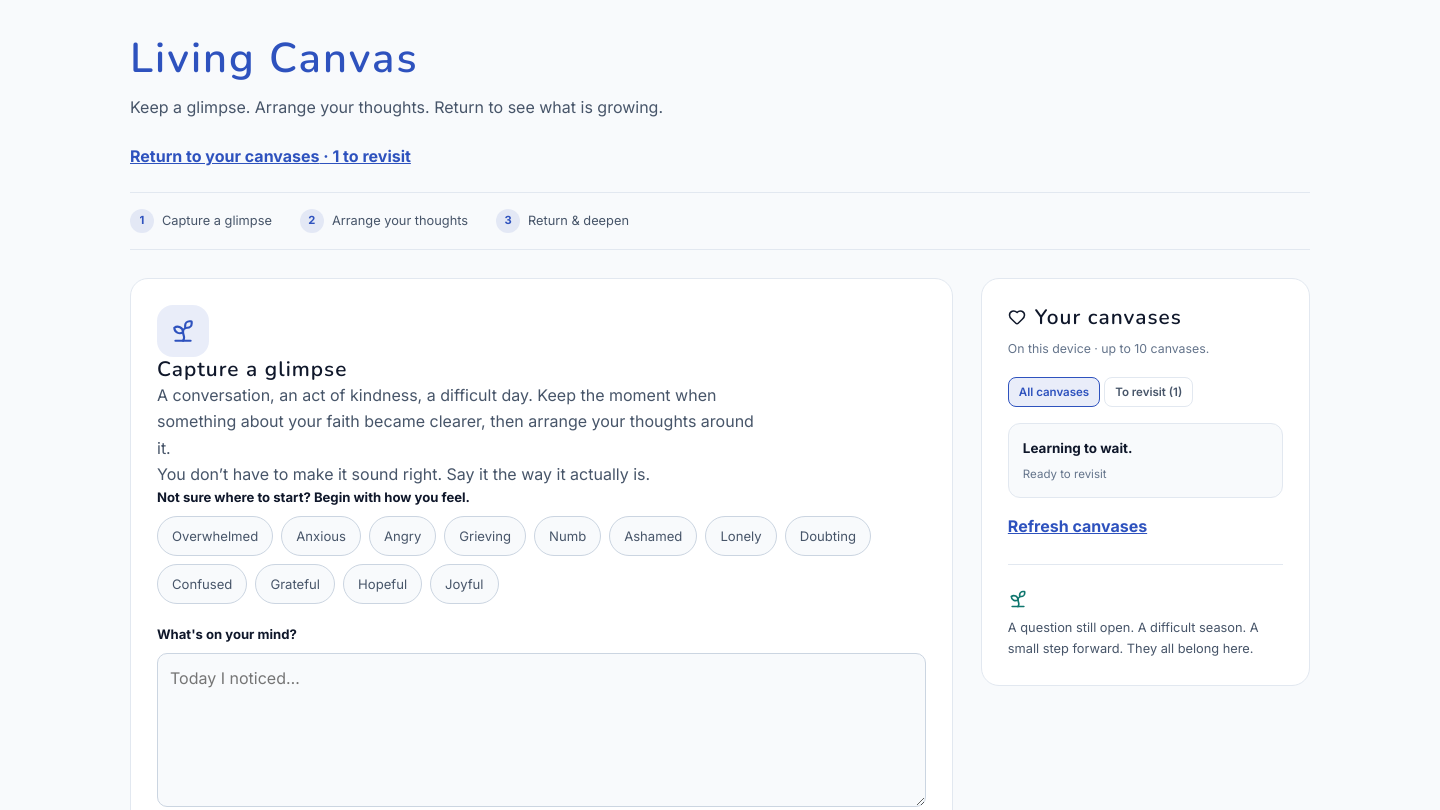
capturing and returning to a canvas › surfaces due revisits and clears the cue after a thought, preserving the original
Step 1. Click the button "Learning to wait. Ready to revisit" → (1078, 448), box [1008,422,1283,498]
(page scrolled)
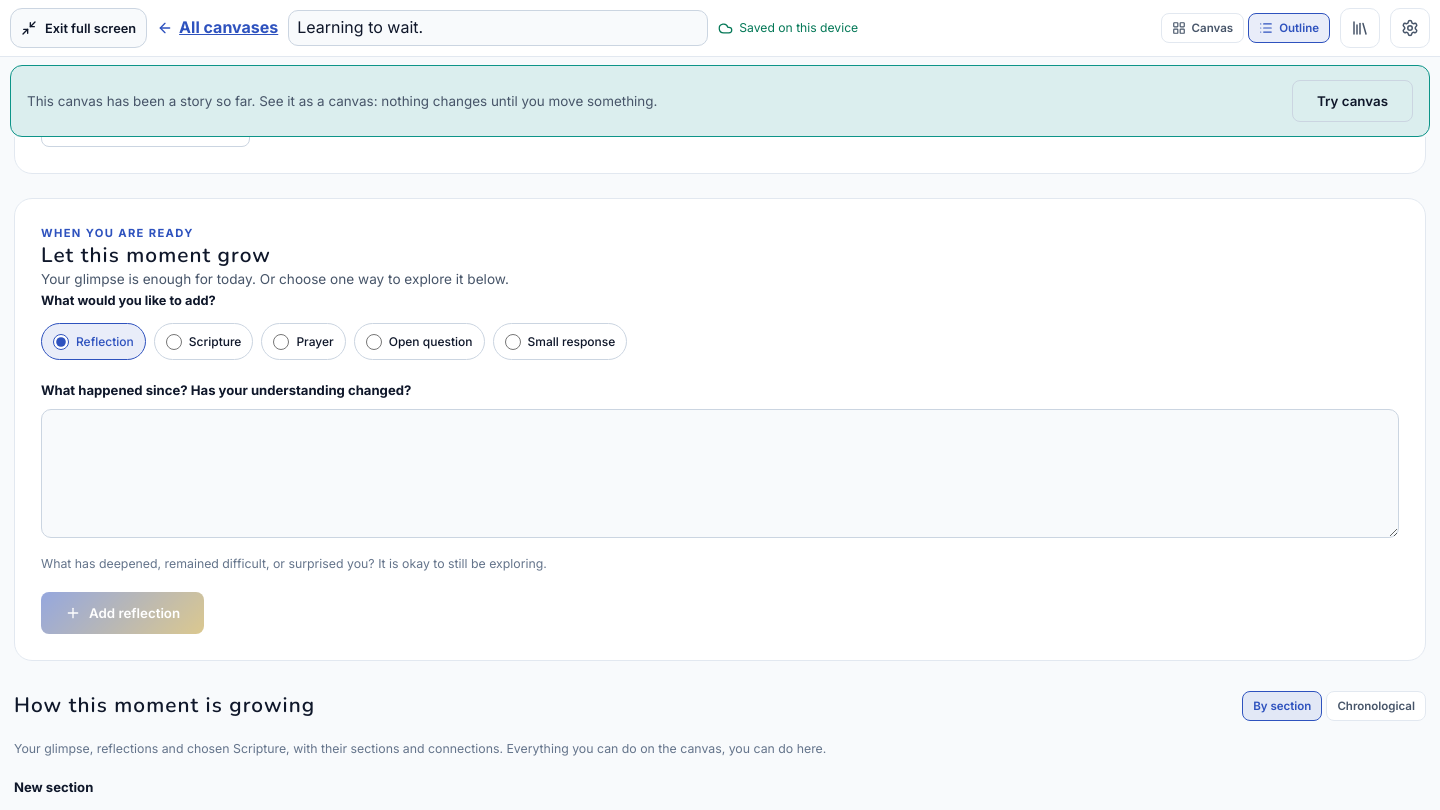
Step 2. Type "I still have questions." into the text box labelled "What happened since? Has your understanding changed?" → (720, 473), box [41,409,1399,538]
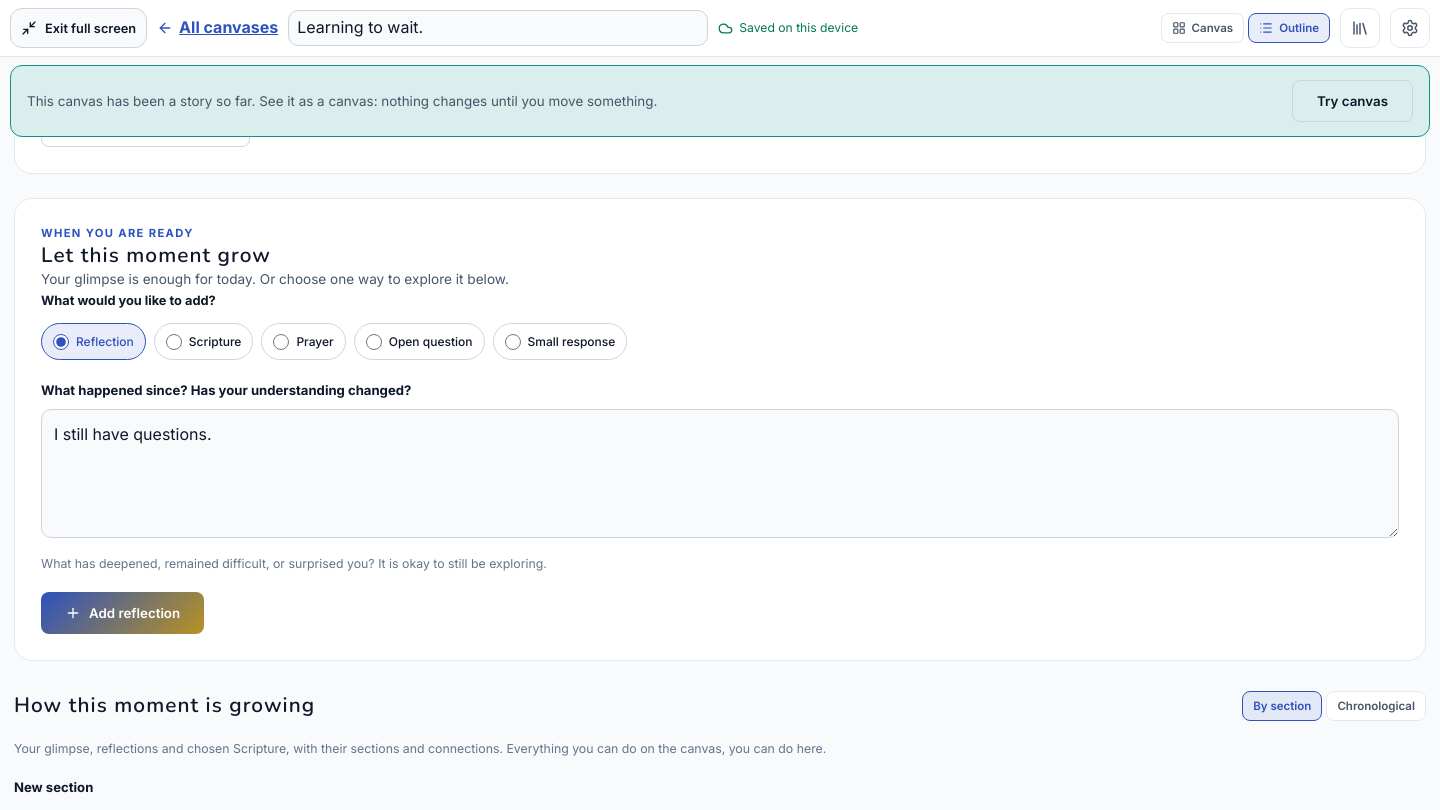
Step 3. Click the button "Add reflection" → (123, 613), box [41,592,204,634]
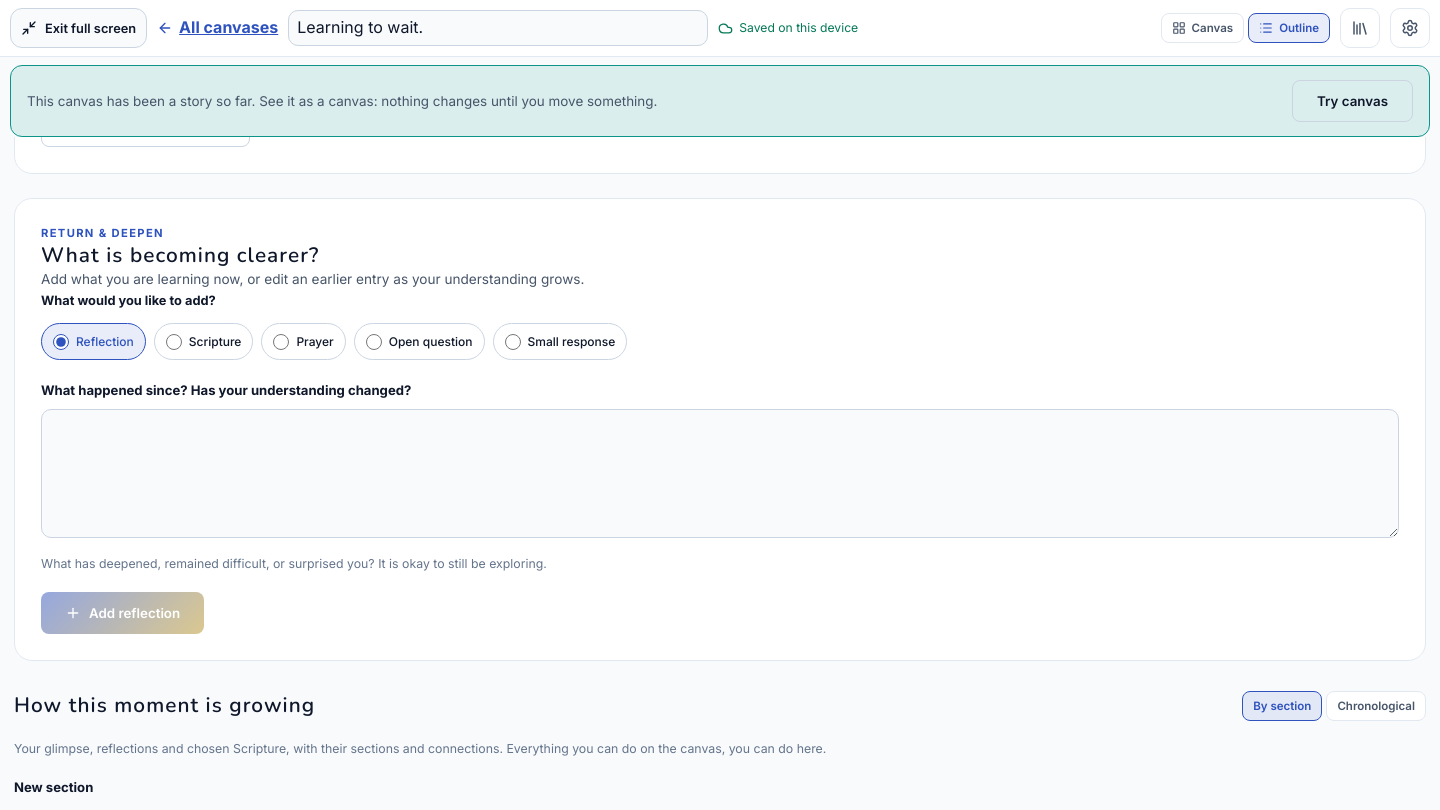
Step 4. Click the button named "Canvas settings" → (1410, 28), box [1390,8,1430,48]
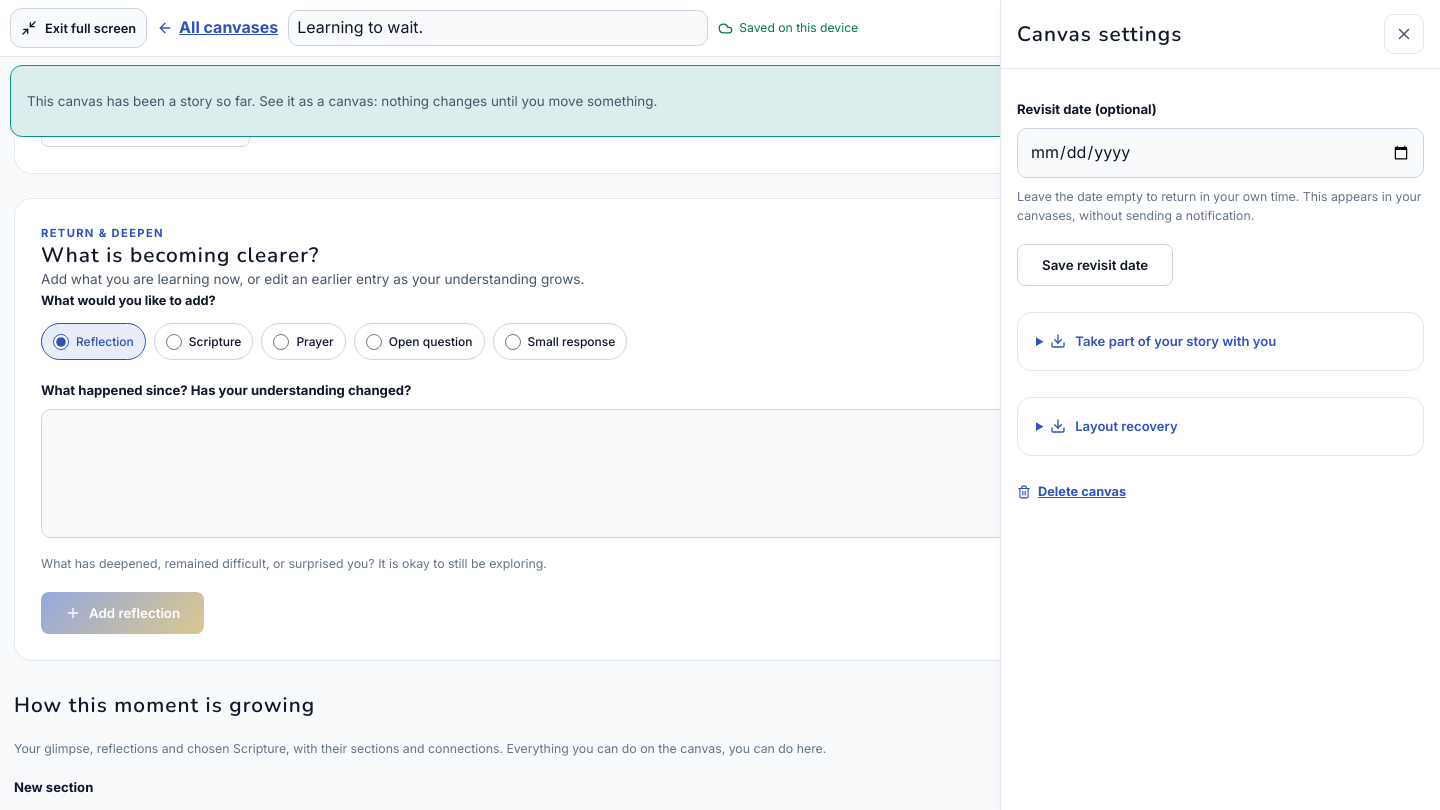
Check: the date field labelled "Revisit date (optional)" is empty, box [1017,128,1424,178]
Step 5. Click the button named "Close canvas settings" → (1404, 34), box [1384,14,1424,54]
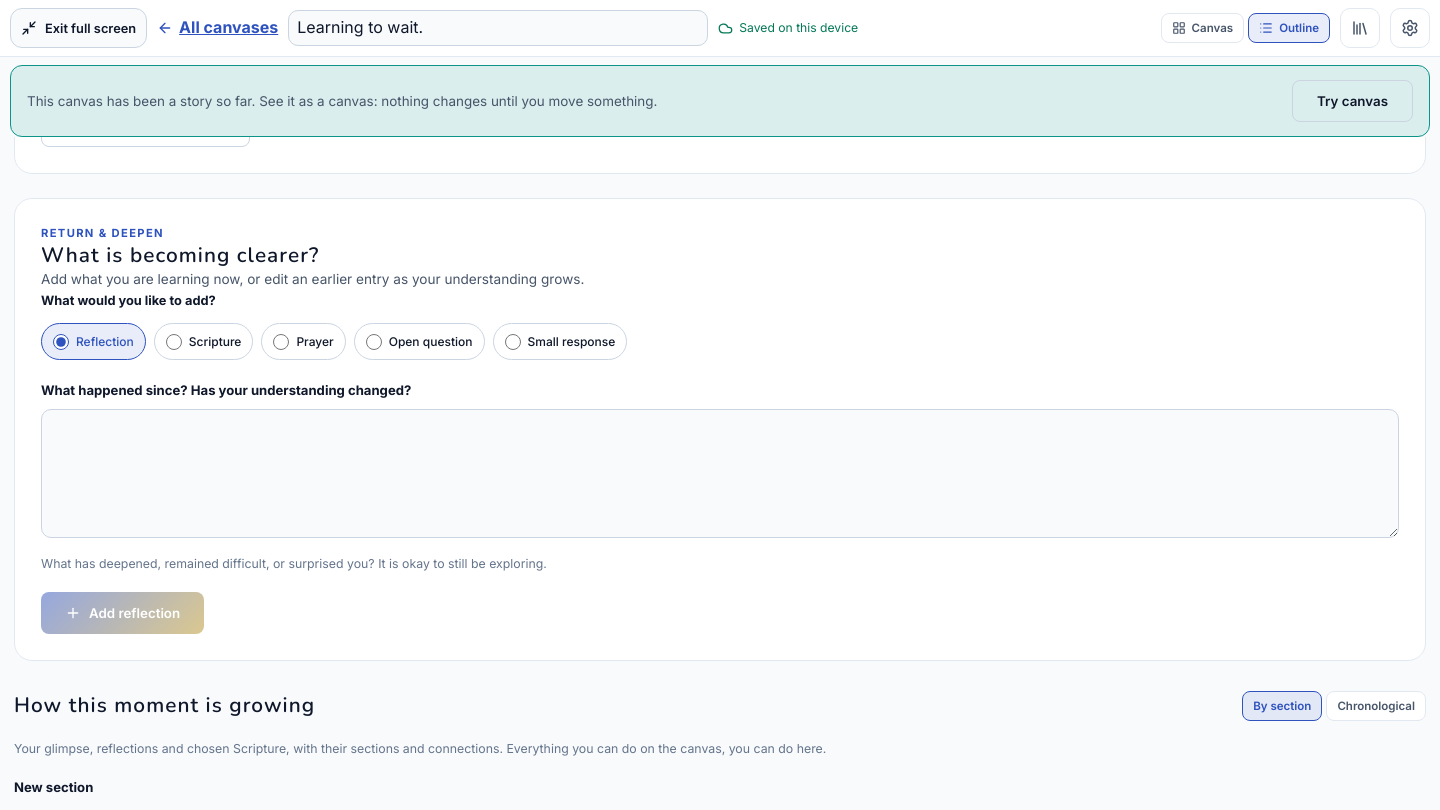
Step 6. Click the button "All canvases" → (218, 28), box [157,15,278,41]
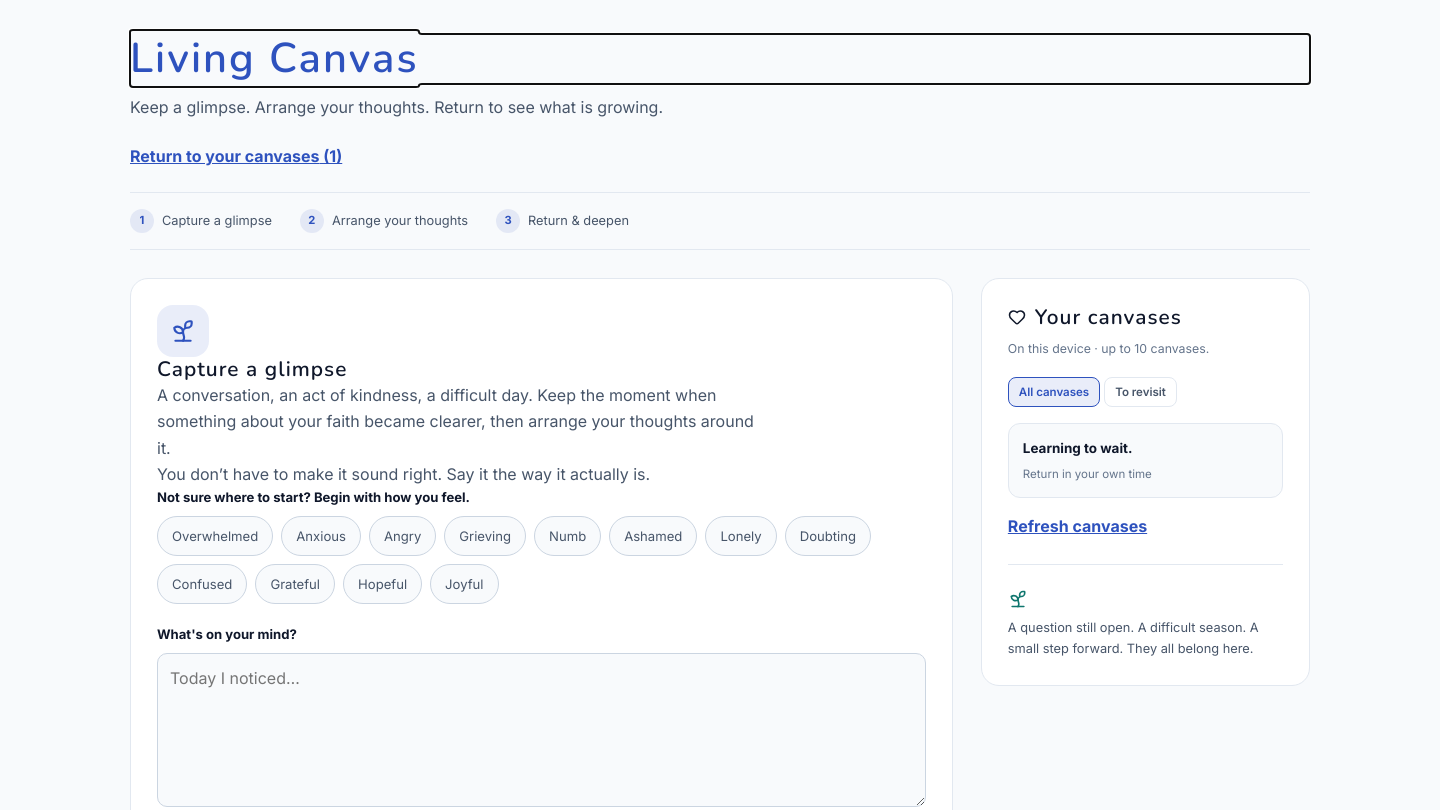
Check: the button "To revisit" is shown, box [1104,376,1177,406]
